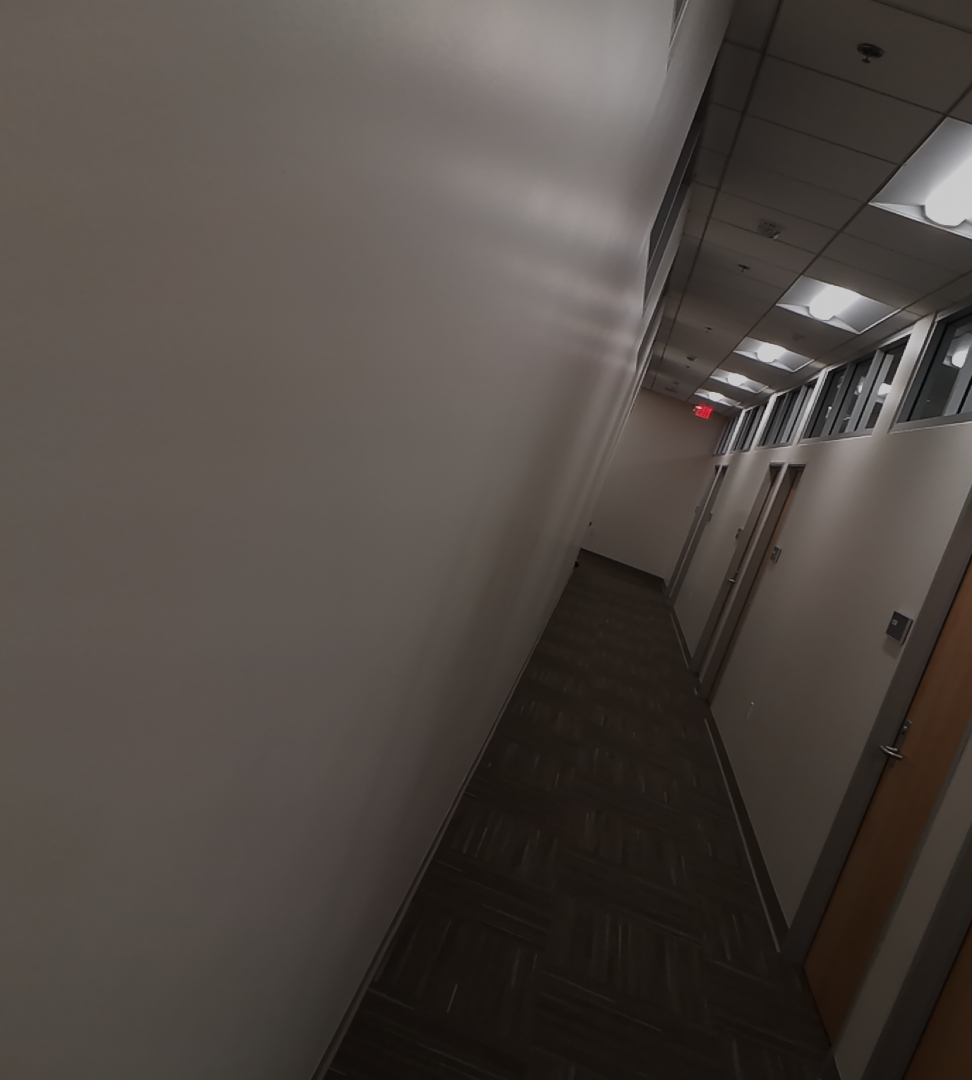emergency_exit: (691, 401, 714, 421)
